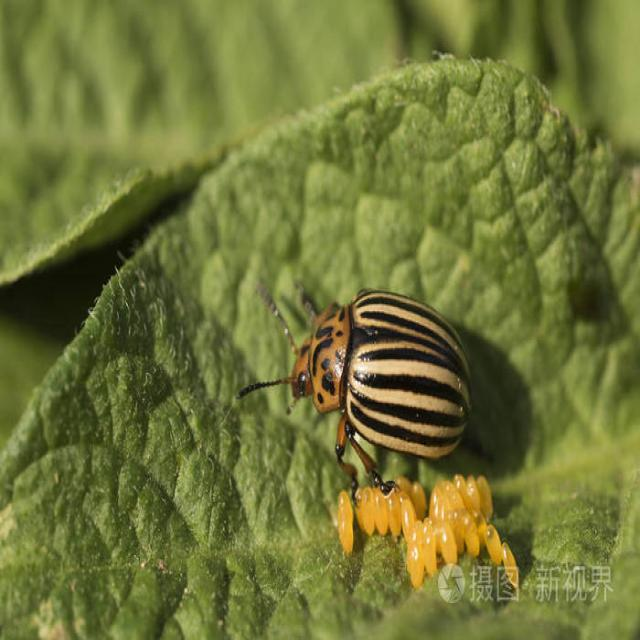ShuCaiHuaBanChong-Grown-: (276, 262, 492, 486)
